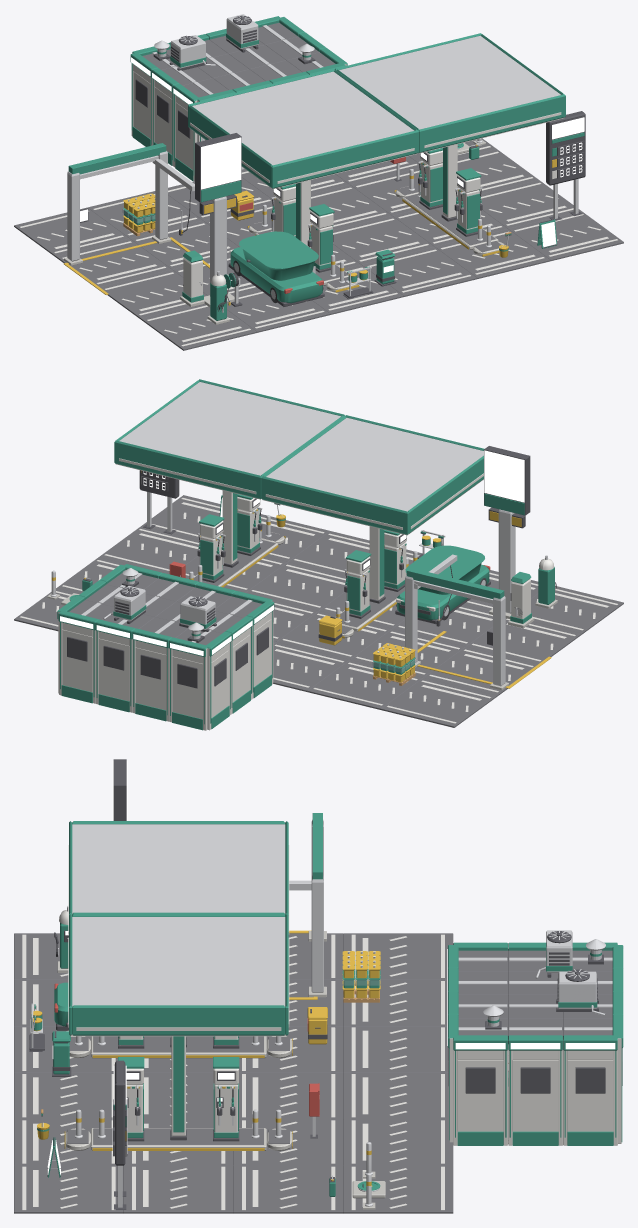
Rendered from petrol-station-and-forecourt-shop-fillin-e7147b85-starter-scene__33992.glb.
3 views of the same model, one above another, from view 1: azimuth 30°, elevation 25°; view 2: azimuth 150°, elevation 25°; view 3: azimuth 270°, elevation 25° (orthographic). The views are drawn at different scales.
Parts seen in each view (by area): view 1: 025-forecourt-canopy-section/5, 024-forecourt-canopy-section/5, 024-forecourt-canopy-section/3, 025-forecourt-canopy-section/3, 036-forecourt-car/0, 050-jet-wash-bay-frame/1, 003-forecourt-paving-tile/0, 014-forecourt-paving-tile/0, 022-forecourt-paving-tile/0, 001-forecourt-paving-tile/0, 015-forecourt-paving-tile/0, 023-forecourt-paving-tile/0 (+63 smaller); view 2: 025-forecourt-canopy-section/5, 024-forecourt-canopy-section/5, 024-forecourt-canopy-section/3, 025-forecourt-canopy-section/3, 000-forecourt-paving-tile/0, 036-forecourt-car/0, 050-jet-wash-bay-frame/1, 014-forecourt-paving-tile/0, 004-forecourt-paving-tile/0, 022-forecourt-paving-tile/0, 003-forecourt-paving-tile/0, 001-forecourt-paving-tile/0 (+60 smaller); view 3: 024-forecourt-canopy-section/5, 025-forecourt-canopy-section/5, 025-forecourt-canopy-section/3, 022-forecourt-paving-tile/0, 021-forecourt-paving-tile/0, 023-forecourt-paving-tile/0, 016-forecourt-paving-tile/0, 012-forecourt-paving-tile/0, 008-forecourt-paving-tile/0, 020-forecourt-paving-tile/0, 015-forecourt-paving-tile/0, 013-forecourt-paving-tile/0 (+58 smaller).
Part boxes in pixels (x1=…): 025-forecourt-canopy-section/5: x1=339, y1=35, x2=560, y2=129; 024-forecourt-canopy-section/5: x1=192, y1=71, x2=414, y2=165; 024-forecourt-canopy-section/3: x1=188, y1=69, x2=418, y2=240; 025-forecourt-canopy-section/3: x1=335, y1=33, x2=565, y2=214; 036-forecourt-car/0: x1=230, y1=231, x2=322, y2=303; 050-jet-wash-bay-frame/1: x1=67, y1=151, x2=194, y2=261; 003-forecourt-paving-tile/0: x1=141, y1=304, x2=256, y2=350; 014-forecourt-paving-tile/0: x1=333, y1=216, x2=434, y2=264; 022-forecourt-paving-tile/0: x1=481, y1=180, x2=580, y2=228; 001-forecourt-paving-tile/0: x1=56, y1=238, x2=171, y2=286; 015-forecourt-paving-tile/0: x1=362, y1=247, x2=476, y2=296; 023-forecourt-paving-tile/0: x1=508, y1=211, x2=623, y2=260; 025-forecourt-canopy-section/5: x1=119, y1=382, x2=340, y2=475; 024-forecourt-canopy-section/5: x1=266, y1=418, x2=483, y2=511; 024-forecourt-canopy-section/3: x1=261, y1=415, x2=484, y2=596; 025-forecourt-canopy-section/3: x1=114, y1=379, x2=345, y2=560; 000-forecourt-paving-tile/0: x1=381, y1=678, x2=496, y2=727; 036-forecourt-car/0: x1=397, y1=545, x2=489, y2=620; 050-jet-wash-bay-frame/1: x1=405, y1=554, x2=505, y2=686; 014-forecourt-paving-tile/0: x1=246, y1=562, x2=347, y2=610; 004-forecourt-paving-tile/0: x1=307, y1=660, x2=422, y2=709; 022-forecourt-paving-tile/0: x1=99, y1=526, x2=199, y2=574; 003-forecourt-paving-tile/0: x1=531, y1=586, x2=623, y2=634; 001-forecourt-paving-tile/0: x1=424, y1=647, x2=537, y2=696; 024-forecourt-canopy-section/5: x1=72, y1=824, x2=285, y2=913; 025-forecourt-canopy-section/5: x1=72, y1=917, x2=285, y2=1006; 025-forecourt-canopy-section/3: x1=69, y1=914, x2=288, y2=1132; 022-forecourt-paving-tile/0: x1=123, y1=1165, x2=233, y2=1213; 021-forecourt-paving-tile/0: x1=233, y1=1165, x2=343, y2=1213; 023-forecourt-paving-tile/0: x1=14, y1=1165, x2=123, y2=1213; 016-forecourt-paving-tile/0: x1=343, y1=1119, x2=453, y2=1165; 012-forecourt-paving-tile/0: x1=343, y1=1072, x2=448, y2=1118; 008-forecourt-paving-tile/0: x1=343, y1=1026, x2=448, y2=1072; 020-forecourt-paving-tile/0: x1=343, y1=1165, x2=453, y2=1213; 015-forecourt-paving-tile/0: x1=14, y1=1072, x2=113, y2=1118; 013-forecourt-paving-tile/0: x1=239, y1=1072, x2=343, y2=1118.
Size of the model in its own units: 18.16 by 6.36 by 16.66.
